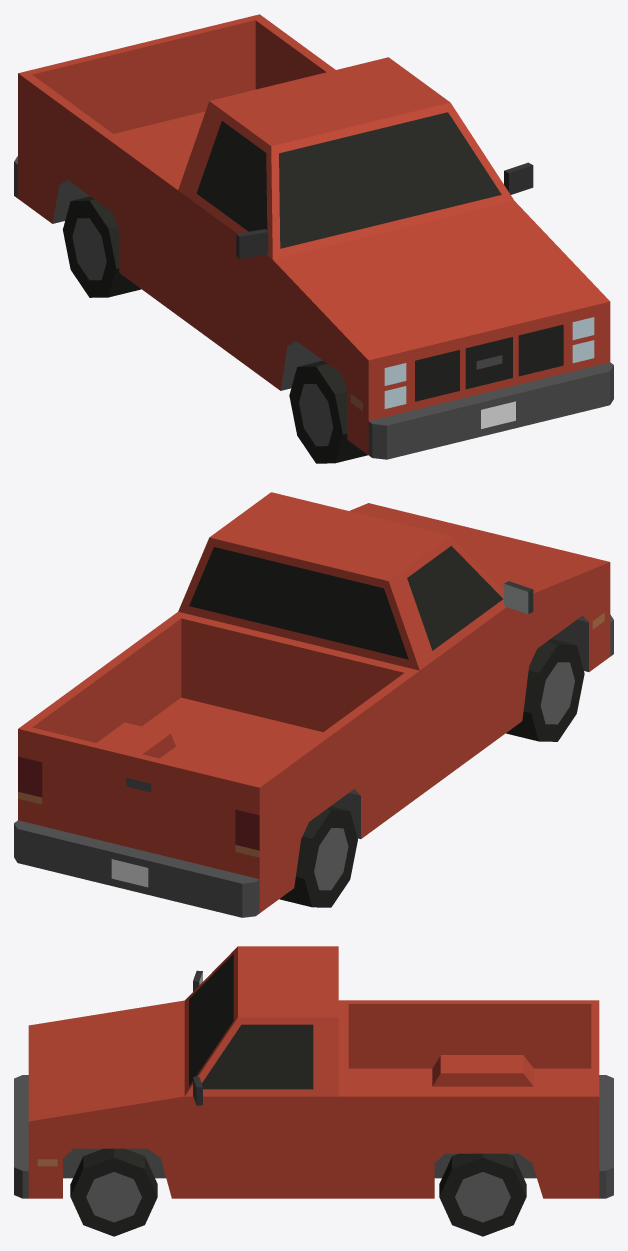
The model's file is Veh_Pickup_02_Red.obj.
The picture shows the model from 3 angles, top to bottom: view 1: azimuth 30°, elevation 25°; view 2: azimuth 150°, elevation 25°; view 3: azimuth 270°, elevation 25°; orthographic projection. The views are drawn at different scales.
Size of the model in its own units: 1.43 by 1.18 by 3.11.
